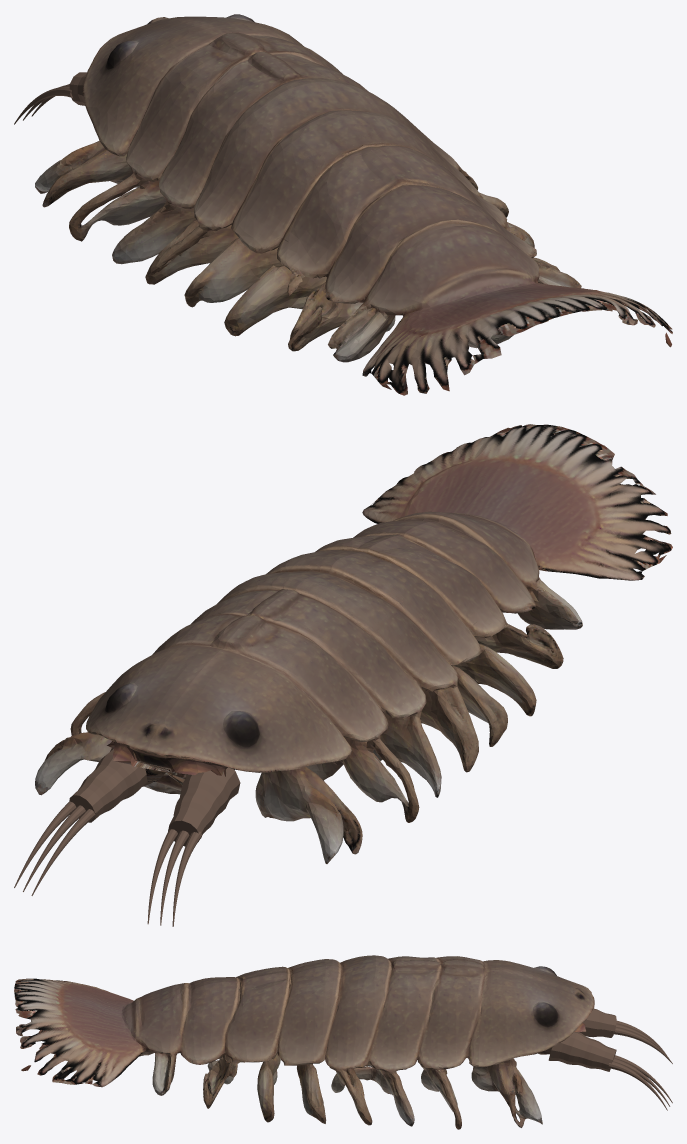
The picture shows the model from 3 angles, top to bottom: view 1: azimuth 30°, elevation 25°; view 2: azimuth 150°, elevation 25°; view 3: azimuth 270°, elevation 25°; orthographic projection. The views are drawn at different scales.
Parts seen in each view (by area): view 1: world; view 2: world; view 3: world.
Boxes of the visible parts, <box> form: world: <box>14,14,672,395</box>; world: <box>14,424,672,926</box>; world: <box>14,955,672,1129</box>.
Size of the model in its own units: 0.4247 by 0.2054 by 1.01.
2 materials, 1 textured.
